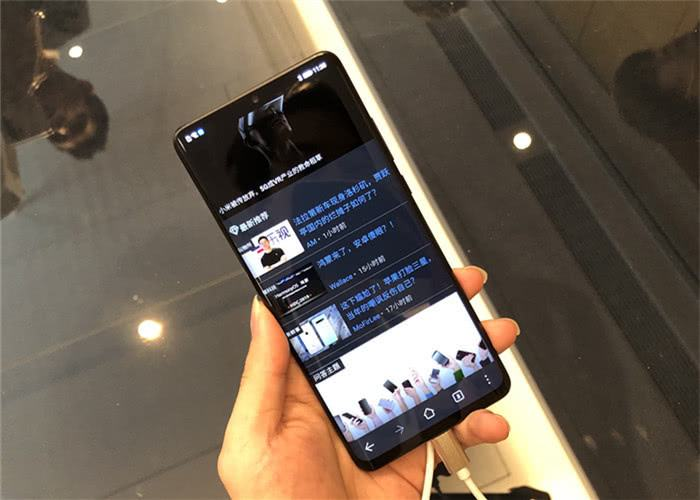phone: (162, 49, 532, 500)
